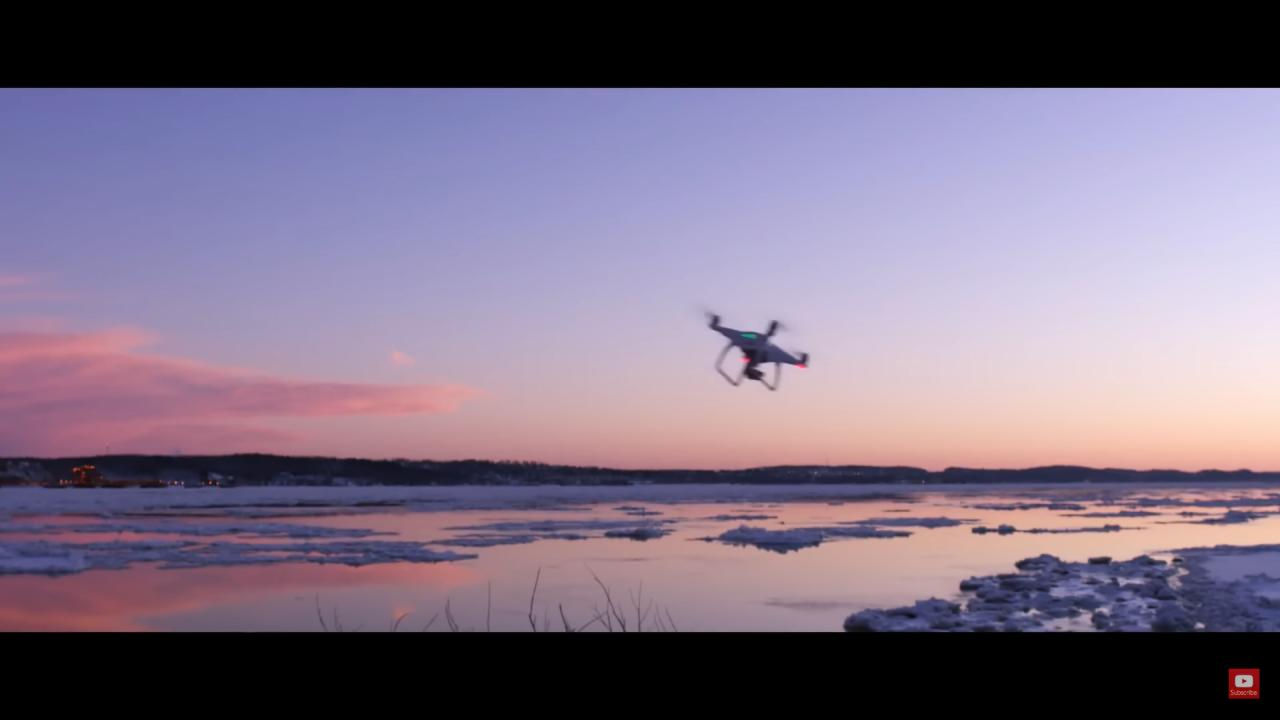Drone: (689, 302, 819, 403)
